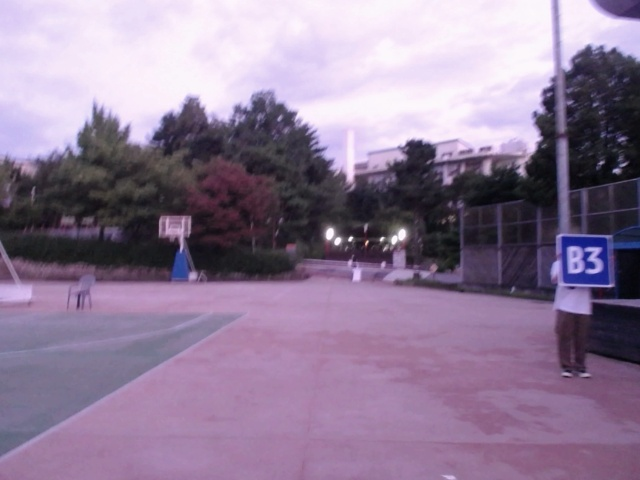delivery_b3: (558, 233, 614, 287)
